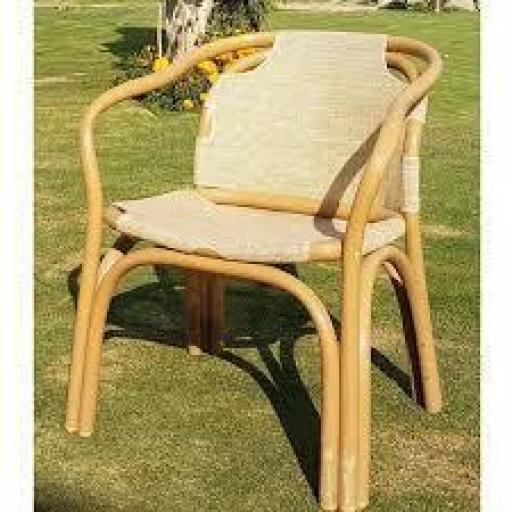chair: (67, 26, 452, 511)
